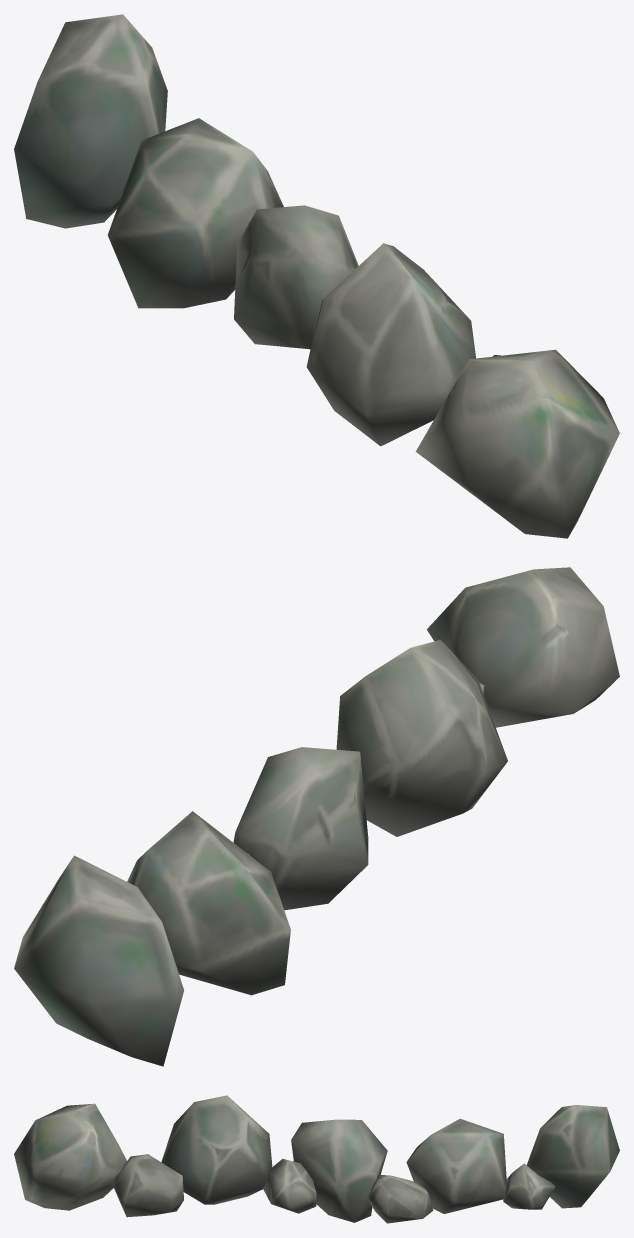
Rendered from bixieRocks.fbx.
3 views of the same model, one above another, from view 1: azimuth 30°, elevation 25°; view 2: azimuth 150°, elevation 25°; view 3: azimuth 270°, elevation 25° (orthographic). The views are drawn at different scales.
Parts seen in each view (by area): view 1: Cube.028, Cube.027, Cube.029, Cube.026, Cube.025; view 2: Cube.027, Cube.029, Cube.028, Cube.026, Cube.025; view 3: Cube.028, Cube.029, Cube.026, Cube.025, Cube.027, Cube.034, Cube.032, Cube.033, Cube.031.
Boxes of the visible parts, x1,y1,x2,y2 form: Cube.028: (415,349,619,538); Cube.027: (14,14,167,228); Cube.029: (306,243,475,446); Cube.026: (107,118,283,308); Cube.025: (234,205,358,349); Cube.027: (14,855,184,1066); Cube.029: (336,640,507,836); Cube.028: (427,567,619,727); Cube.026: (127,811,290,995); Cube.025: (233,747,368,910); Cube.028: (14,1103,126,1210); Cube.029: (161,1095,272,1204); Cube.026: (406,1118,506,1213); Cube.025: (291,1119,387,1222); Cube.027: (526,1105,619,1208); Cube.034: (112,1154,183,1217); Cube.032: (367,1174,433,1223); Cube.033: (263,1158,316,1213); Cube.031: (503,1163,554,1209).
Size of the model in its own units: 33.15 by 32.45 by 158.
Materials: 1 (1 with a texture image).
